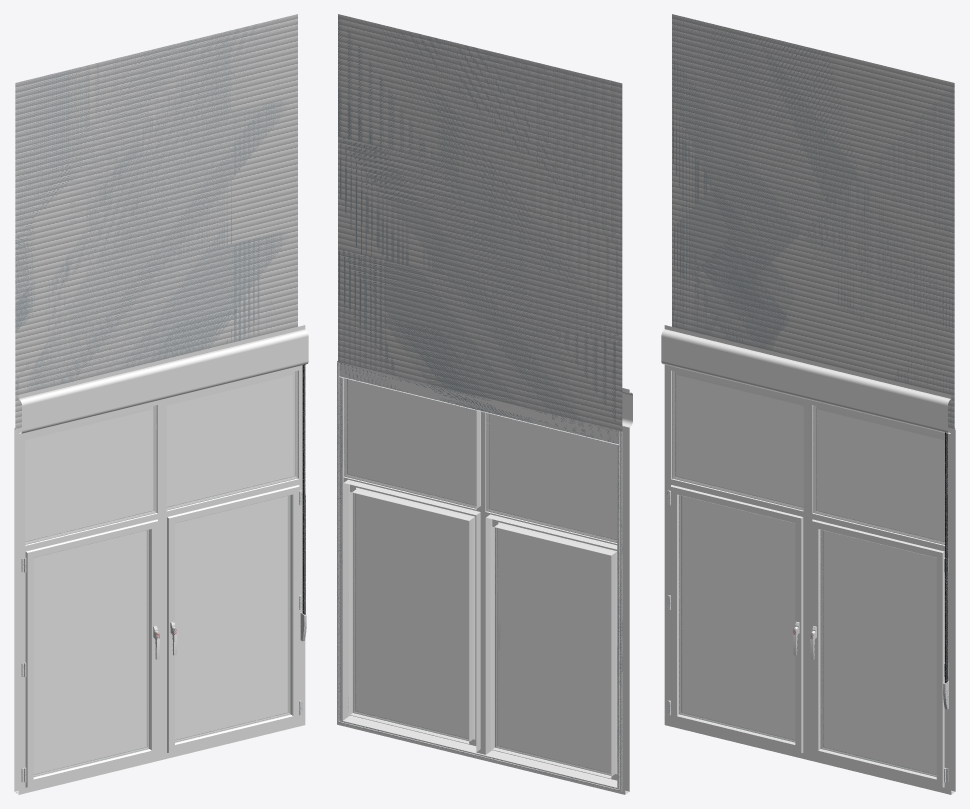
File: Window2_os_150x200x[2 casement_blinds].dae
3 views of the same model, side by side, from view 1: azimuth 30°, elevation 25°; view 2: azimuth 150°, elevation 25°; view 3: azimuth 330°, elevation 25° (orthographic).
Visible parts, largest first — view 1: group_4, group_18 (×2), group_29 (×2), group_20 (×2), group_21 (×2), group_19 (×2), group_9, group_28 (×2), group_17 (×2), group_3; view 2: group_4 (×2), group_18 (×2), group_29 (×2), group_20 (×2), group_21 (×2), group_3 (×3), group_19 (×4), group_17 (×5), group_28 (×4); view 3: group_4, group_18 (×2), group_29 (×2), group_20 (×2), group_21 (×2), group_19 (×2), group_9, group_28 (×2), group_17 (×2), group_3.
Boxes of the visible parts, bbox=[...] form: group_4: bbox=[15, 14, 297, 428]; group_18 (×2): bbox=[33, 530, 149, 776]; group_29 (×2): bbox=[175, 495, 290, 742]; group_20 (×2): bbox=[166, 370, 298, 510]; group_21 (×2): bbox=[25, 405, 156, 544]; group_19 (×2): bbox=[18, 365, 305, 794]; group_9: bbox=[18, 325, 308, 433]; group_28 (×2): bbox=[167, 485, 299, 752]; group_17 (×2): bbox=[25, 519, 157, 787]; group_3: bbox=[14, 428, 21, 791]; group_4 (×2): bbox=[338, 14, 622, 444]; group_18 (×2): bbox=[495, 527, 611, 775]; group_29 (×2): bbox=[353, 493, 468, 740]; group_20 (×2): bbox=[344, 378, 476, 508]; group_21 (×2): bbox=[486, 413, 617, 542]; group_3 (×3): bbox=[337, 361, 625, 794]; group_19 (×4): bbox=[343, 379, 629, 791]; group_17 (×5): bbox=[486, 514, 617, 786]; group_28 (×4): bbox=[344, 484, 480, 751]; group_4: bbox=[672, 14, 954, 428]; group_18 (×2): bbox=[679, 495, 795, 742]; group_29 (×2): bbox=[820, 530, 936, 776]; group_20 (×2): bbox=[813, 405, 944, 544]; group_21 (×2): bbox=[672, 370, 803, 510]; group_19 (×2): bbox=[664, 364, 951, 794]; group_9: bbox=[661, 325, 951, 433]; group_28 (×2): bbox=[812, 519, 944, 787]; group_17 (×2): bbox=[671, 485, 803, 752]; group_3: bbox=[948, 428, 955, 791].
Size of the model in its own units: 59.06 by 4.16 by 139.
Materials: 12 (1 with a texture image).
